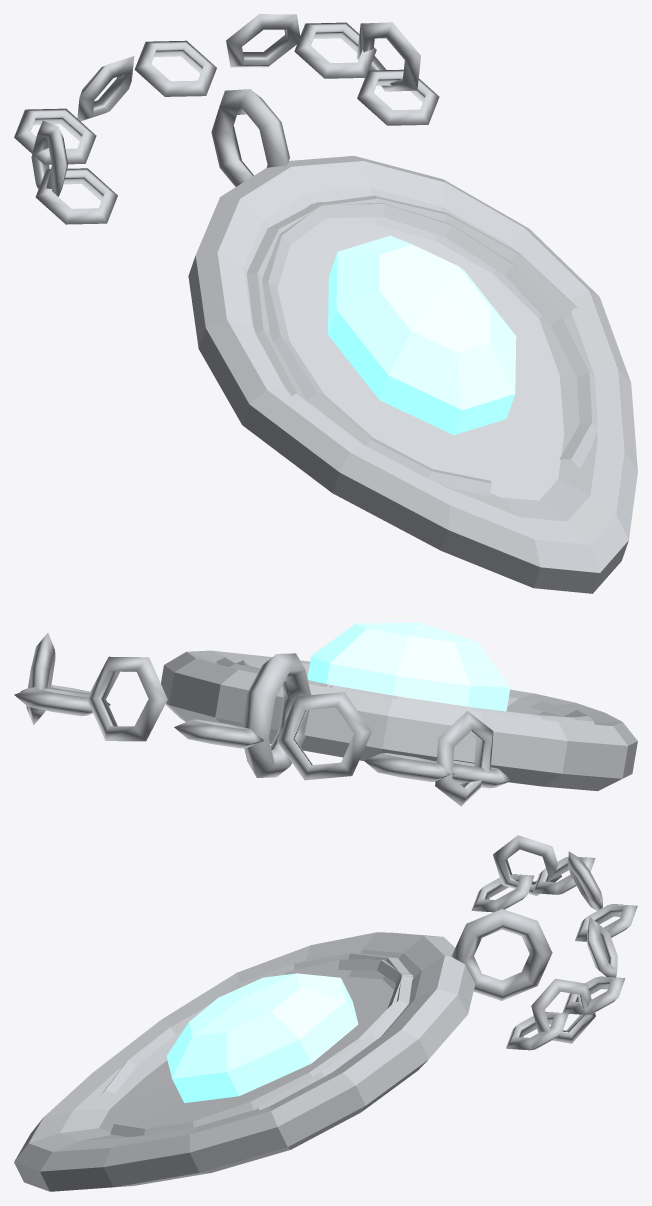
Rendered from AmuletoHada.glb.
The picture shows the model from 3 angles, top to bottom: view 1: azimuth 30°, elevation 25°; view 2: azimuth 150°, elevation 25°; view 3: azimuth 270°, elevation 25°; orthographic projection. The views are drawn at different scales.
Parts seen in each view (by area): view 1: AmuletoHada; view 2: AmuletoHada; view 3: AmuletoHada.
Boxes of the visible parts, x1,y1,x2,y2 form: AmuletoHada: (14, 14, 637, 593); AmuletoHada: (14, 622, 637, 806); AmuletoHada: (14, 835, 637, 1191).
Bounding box in the file's own units: 0.1943 × 0.1434 × 0.3003.
